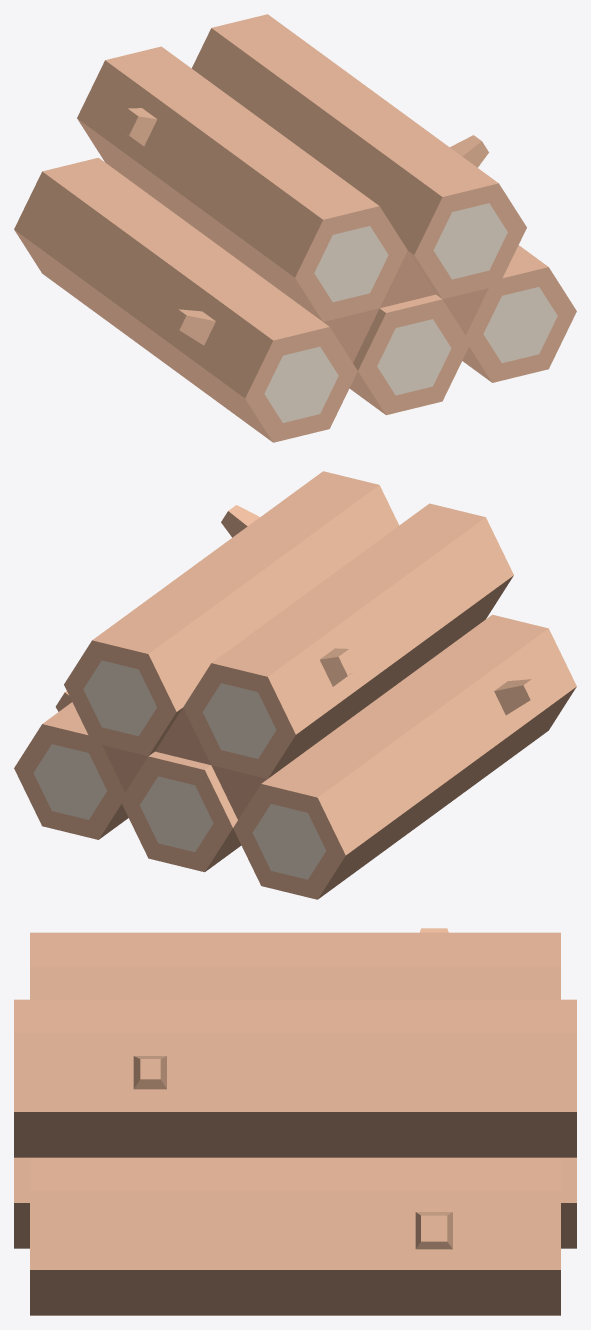
Rendered from log_stackLarge.glb.
The picture shows the model from 3 angles, top to bottom: view 1: azimuth 30°, elevation 25°; view 2: azimuth 150°, elevation 25°; view 3: azimuth 270°, elevation 25°; orthographic projection. The views are drawn at different scales.
Visible parts, largest first — view 1: log_stackLarge; view 2: log_stackLarge; view 3: log_stackLarge.
Part boxes in pixels (left/top/right/bottom): log_stackLarge: left=14, top=14, right=576, bottom=442; log_stackLarge: left=14, top=471, right=576, bottom=899; log_stackLarge: left=14, top=928, right=576, bottom=1315.
Size of the model in its own units: 0.634 by 0.3464 by 0.71.
